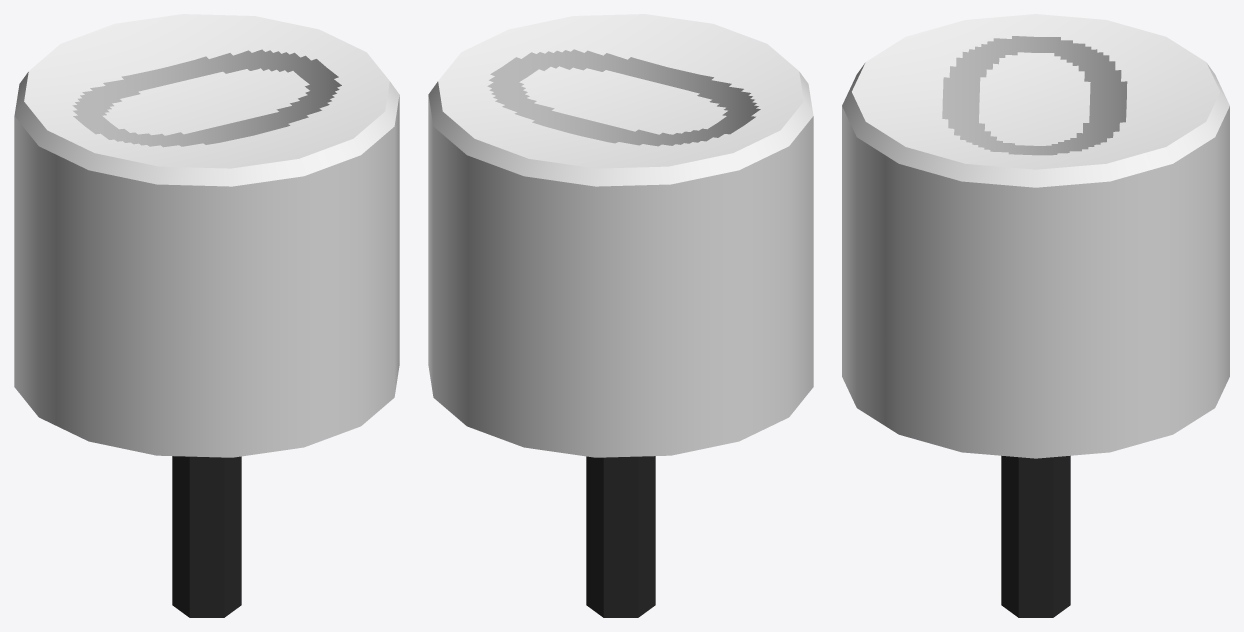
The model's file is button_00.obj.
3 renders of one model, left to right at view 1: azimuth 30°, elevation 25°; view 2: azimuth 150°, elevation 25°; view 3: azimuth 270°, elevation 25°, orthographic.
Visible parts, largest first — view 1: digit_button_00_Cylinder.001; view 2: digit_button_00_Cylinder.001; view 3: digit_button_00_Cylinder.001.
Boxes of the visible parts, <box> form: digit_button_00_Cylinder.001: <box>14,14,399,617</box>; digit_button_00_Cylinder.001: <box>428,14,813,617</box>; digit_button_00_Cylinder.001: <box>842,14,1229,617</box>.
Size of the model in its own units: 0.0126 by 0.0185 by 0.0126.
